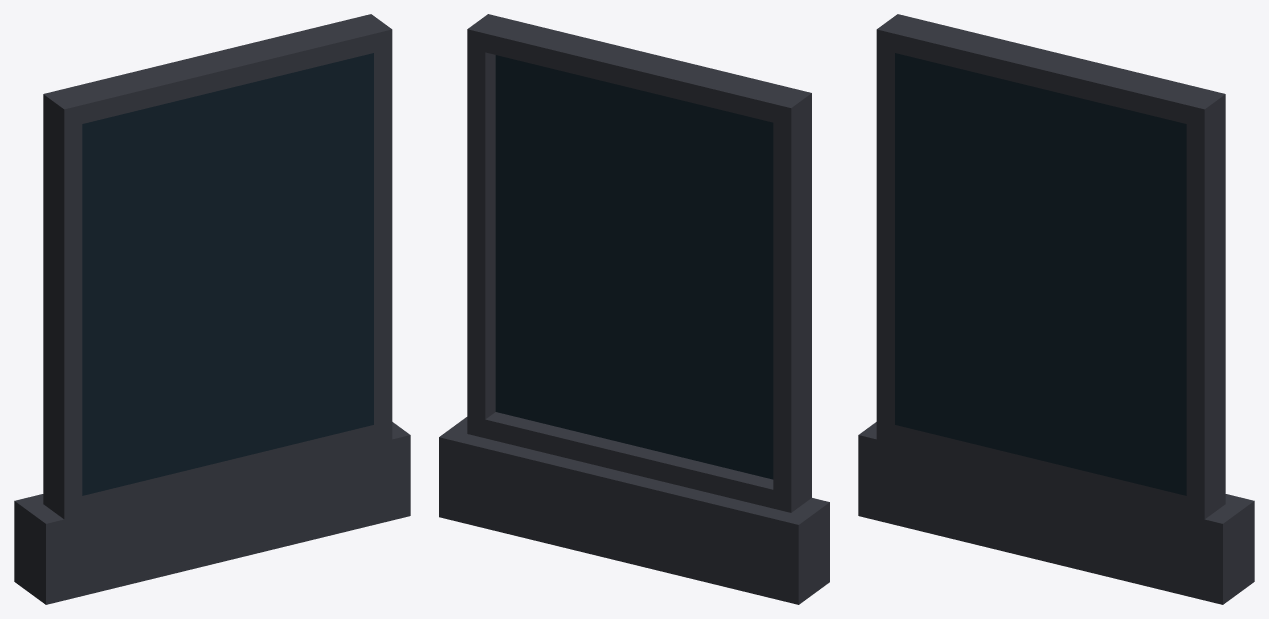
File: LeaderBoad.fbx
3 views of the same model, side by side, from view 1: azimuth 30°, elevation 25°; view 2: azimuth 150°, elevation 25°; view 3: azimuth 330°, elevation 25° (orthographic).
Visible parts, largest first — view 1: h.001; view 2: h.001; view 3: h.001.
Part boxes in pixels (bbox=[...]): h.001: bbox=[14, 14, 410, 604]; h.001: bbox=[439, 14, 829, 604]; h.001: bbox=[858, 14, 1254, 604].
Bounding box in the file's own units: 2000 × 2575 × 300.
